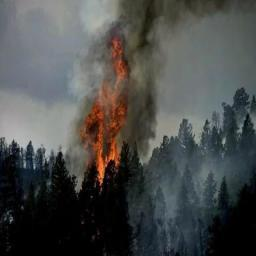Large fire: (75, 32, 138, 209)
Low smoke: (148, 153, 248, 250), (124, 0, 256, 35)
